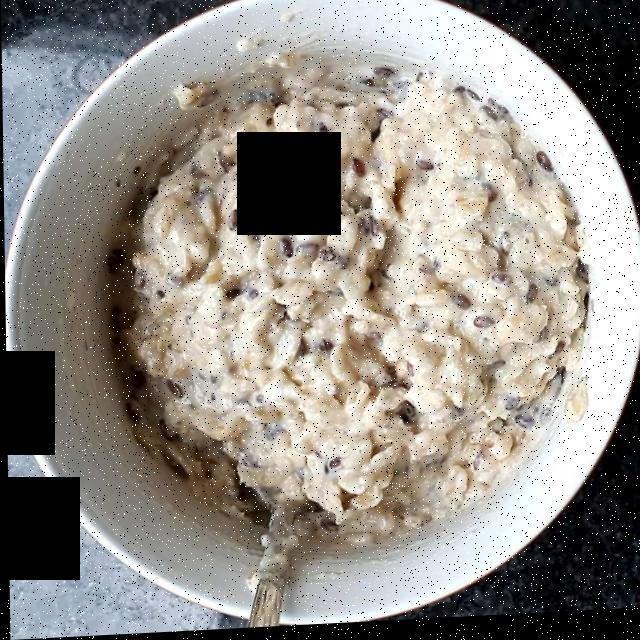oats: (116, 77, 564, 534)
